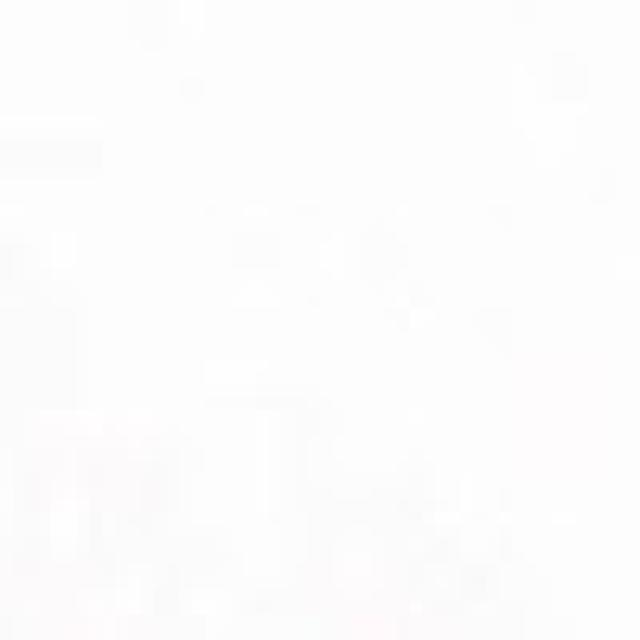no_fire: (49, 24, 598, 620)
